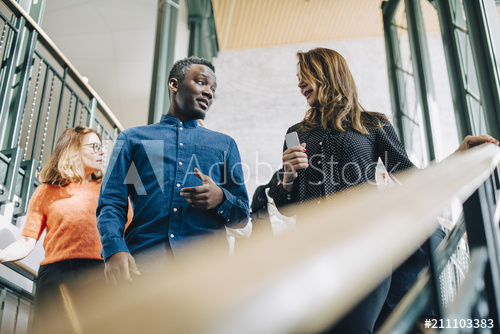Person: (91, 54, 254, 288), (267, 46, 400, 187), (1, 123, 109, 277)
